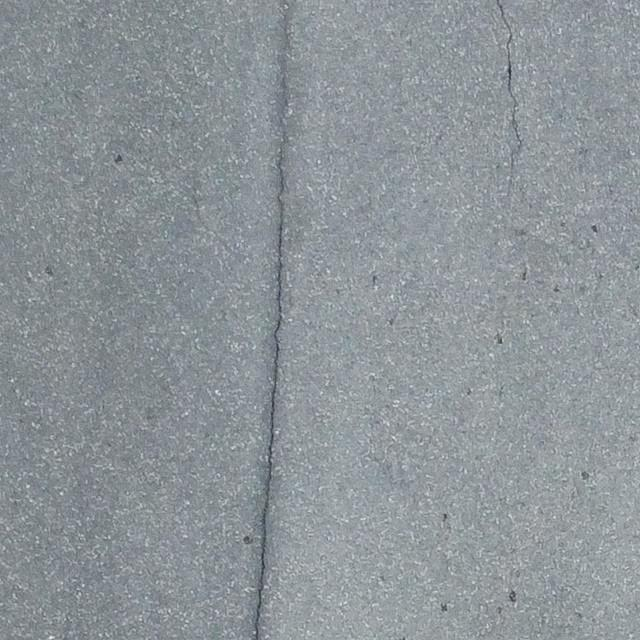LongitudinalCrack: (253, 1, 291, 639), (499, 1, 524, 153)
